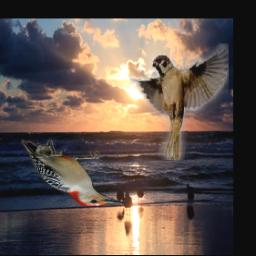Sparrow: (130, 43, 230, 160)
Woodpecker: (22, 140, 127, 206)
